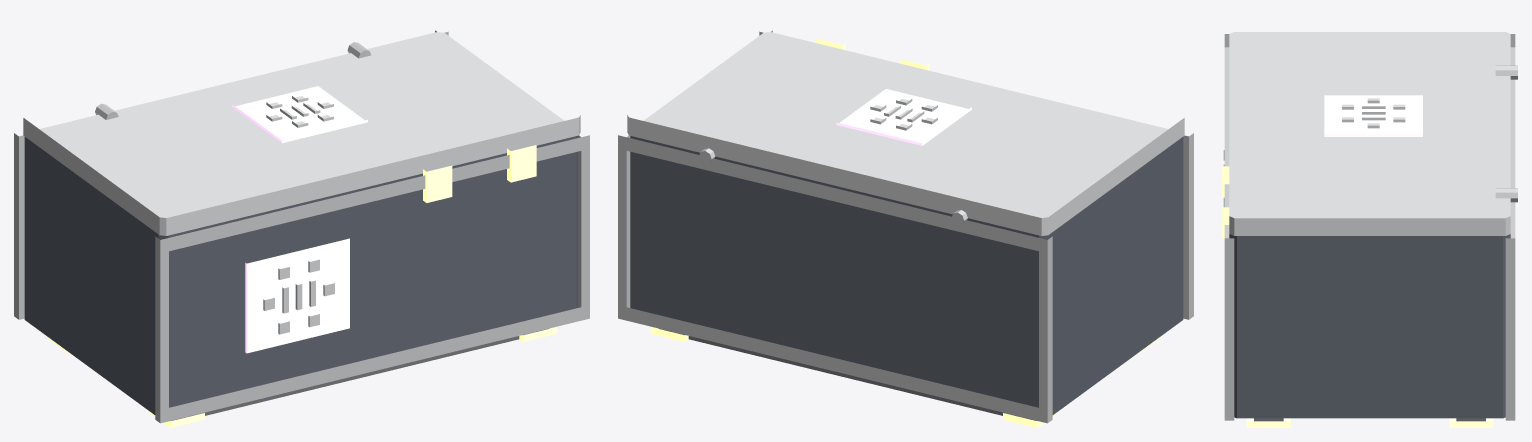
File: lab_crate_frame_104.glb
3 views of the same model, side by side, from view 1: azimuth 30°, elevation 25°; view 2: azimuth 150°, elevation 25°; view 3: azimuth 270°, elevation 25° (orthographic).
Parts seen in each view (by area): view 1: Body_104, Lid_104, Frame_104, Glyph_Plate_104, Lid_Glyph_104, Latches_104, Glyph_Marks_104, Skids_104, Lid_Glyph_Marks_104, Floor_Clamps_104; view 2: Body_104, Lid_104, Frame_104, Lid_Glyph_104, Skids_104, Lid_Glyph_Marks_104, Floor_Clamps_104; view 3: Lid_104, Body_104, Frame_104, Lid_Glyph_104, Floor_Clamps_104, Lid_Glyph_Marks_104, Hinges_104, Latches_104.
Boxes of the visible parts, x1,y1,x2,y2 form: Body_104: [24, 135, 579, 414]; Lid_104: [23, 32, 580, 235]; Frame_104: [14, 30, 589, 423]; Glyph_Plate_104: [245, 238, 349, 353]; Lid_Glyph_104: [232, 86, 367, 143]; Latches_104: [423, 145, 536, 202]; Glyph_Marks_104: [263, 259, 334, 334]; Skids_104: [171, 328, 548, 420]; Lid_Glyph_Marks_104: [266, 96, 333, 127]; Floor_Clamps_104: [46, 327, 557, 427]; Body_104: [628, 135, 1183, 414]; Lid_104: [627, 32, 1184, 235]; Frame_104: [618, 30, 1193, 423]; Lid_Glyph_104: [836, 89, 971, 145]; Skids_104: [659, 328, 1036, 420]; Lid_Glyph_Marks_104: [870, 99, 937, 130]; Floor_Clamps_104: [650, 327, 1161, 427]; Lid_104: [1229, 32, 1510, 235]; Body_104: [1229, 234, 1510, 418]; Frame_104: [1224, 34, 1515, 420]; Lid_Glyph_104: [1324, 95, 1422, 136]; Floor_Clamps_104: [1246, 418, 1493, 427]; Lid_Glyph_Marks_104: [1342, 98, 1405, 128]; Hinges_104: [1495, 65, 1517, 202]; Latches_104: [1222, 166, 1229, 238].
Bounding box in the file's own units: 1 × 0.5 × 0.6.
